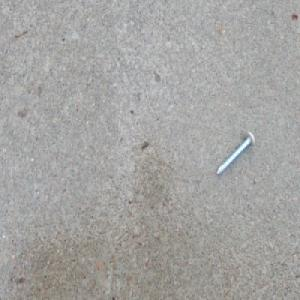Nail: (215, 130, 256, 178)
